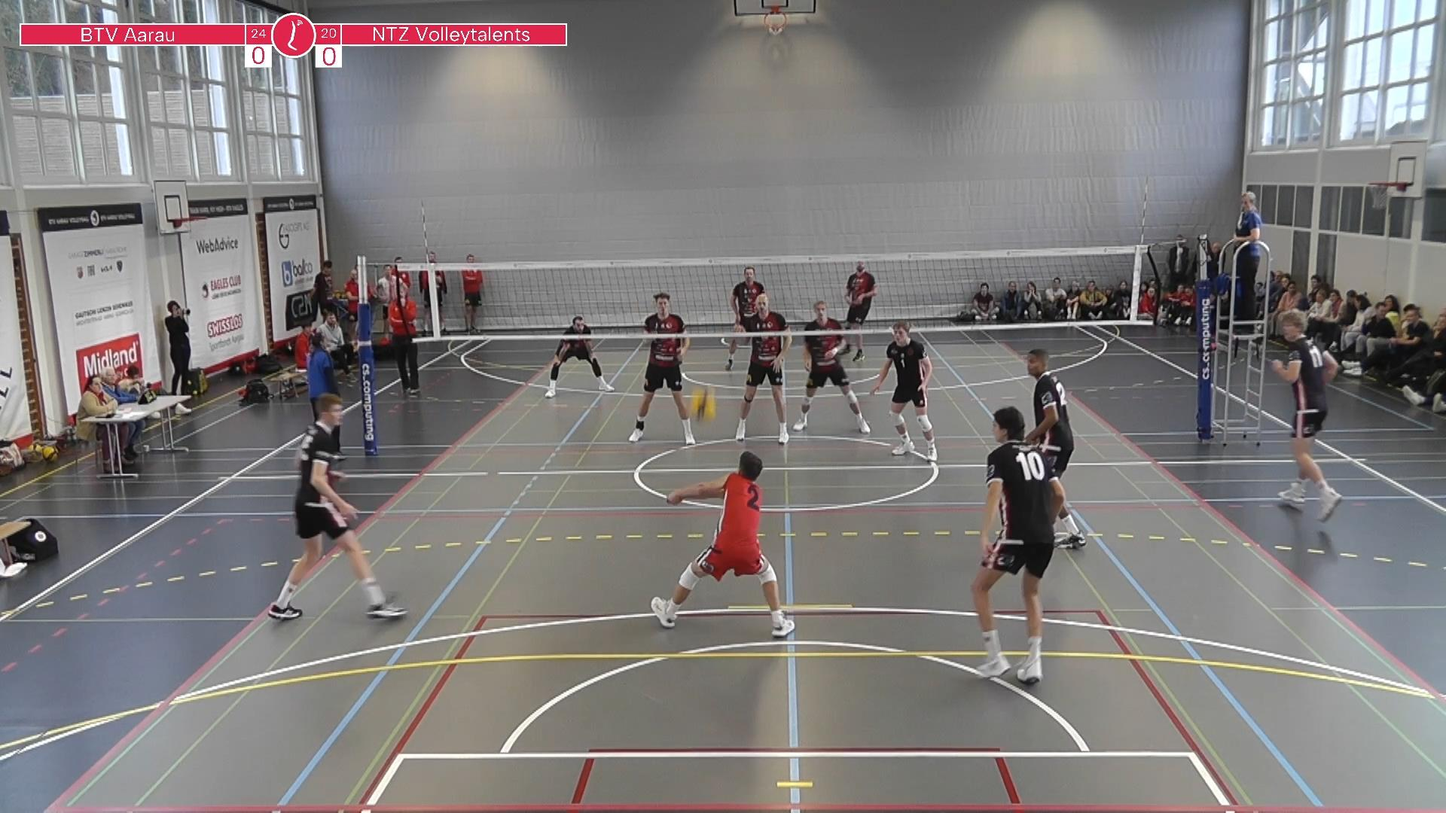Player: (268, 394, 406, 620), (972, 407, 1065, 684), (1272, 310, 1342, 520), (792, 300, 869, 434), (629, 292, 695, 445), (871, 321, 937, 461), (735, 294, 791, 443), (1025, 349, 1073, 477), (545, 315, 614, 397), (845, 260, 877, 361), (730, 266, 764, 323)
Receive: (649, 449, 797, 640)
ball: (689, 385, 713, 419)
